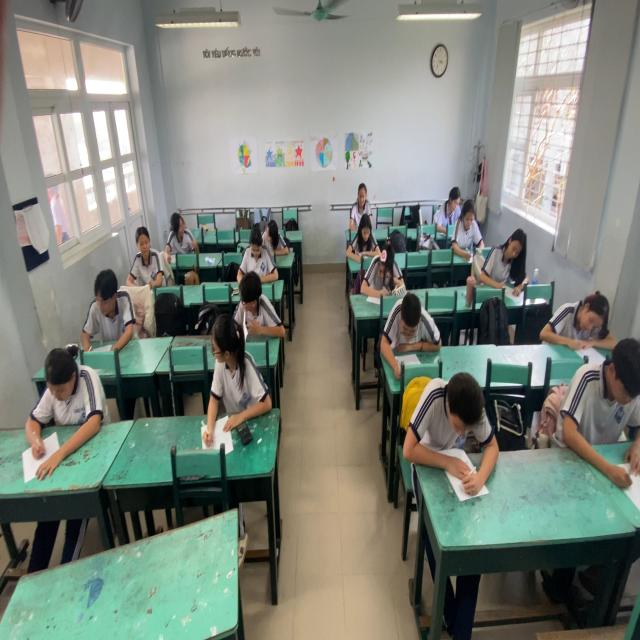cheating: (200, 310, 274, 424), (232, 272, 288, 341), (162, 203, 198, 258), (255, 216, 290, 258)
not_cheating: (420, 363, 500, 472), (31, 348, 100, 442), (572, 342, 640, 437), (540, 292, 620, 356), (82, 266, 132, 348), (382, 292, 436, 358), (487, 218, 532, 282), (366, 231, 408, 296), (130, 227, 170, 280), (245, 227, 278, 280), (347, 175, 385, 216), (348, 213, 381, 255), (428, 183, 470, 216), (454, 199, 484, 244)
